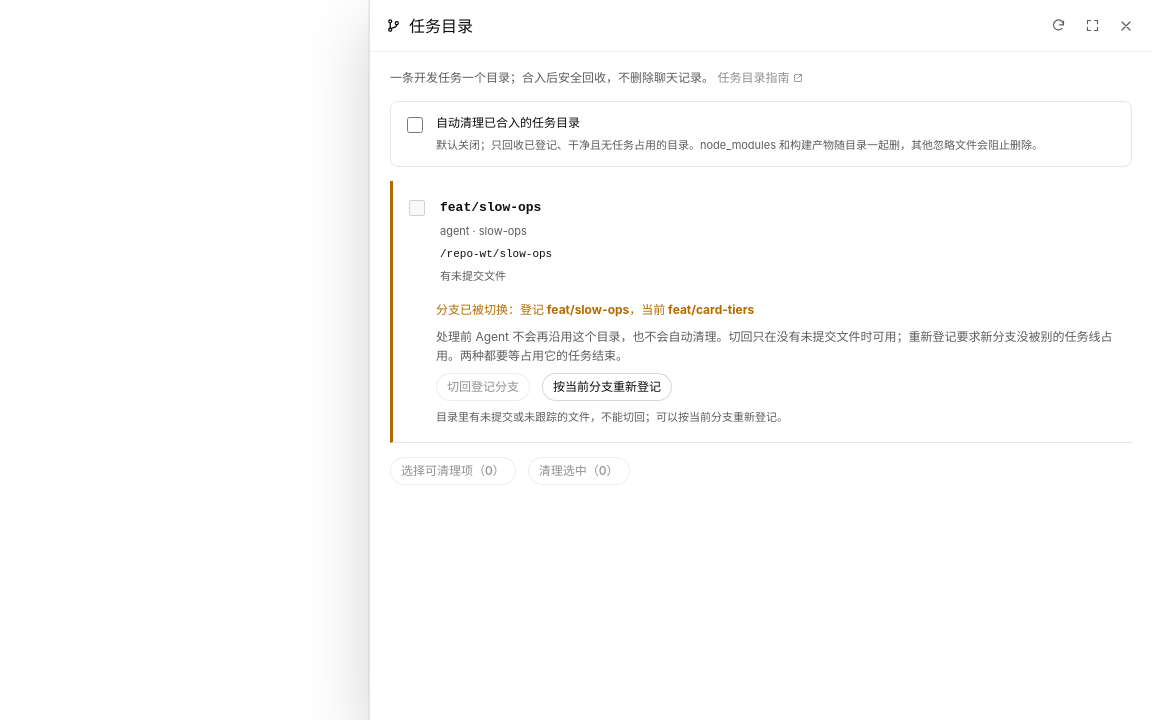
WorktreePanel › flags a checkout whose branch was switched and offers the two safe fixes
Later steps or results of the test are not shown.
Expected: the text "分支已被切换：登记 feat/slow-ops，当前 feat/card-tiers" is shown, [436,302,754,317]
Expected: the button "切回登记分支" is disabled, [436,373,530,401]
Step 1. Click the button named "刷新" → [1058, 26], box [1042,10,1074,42]
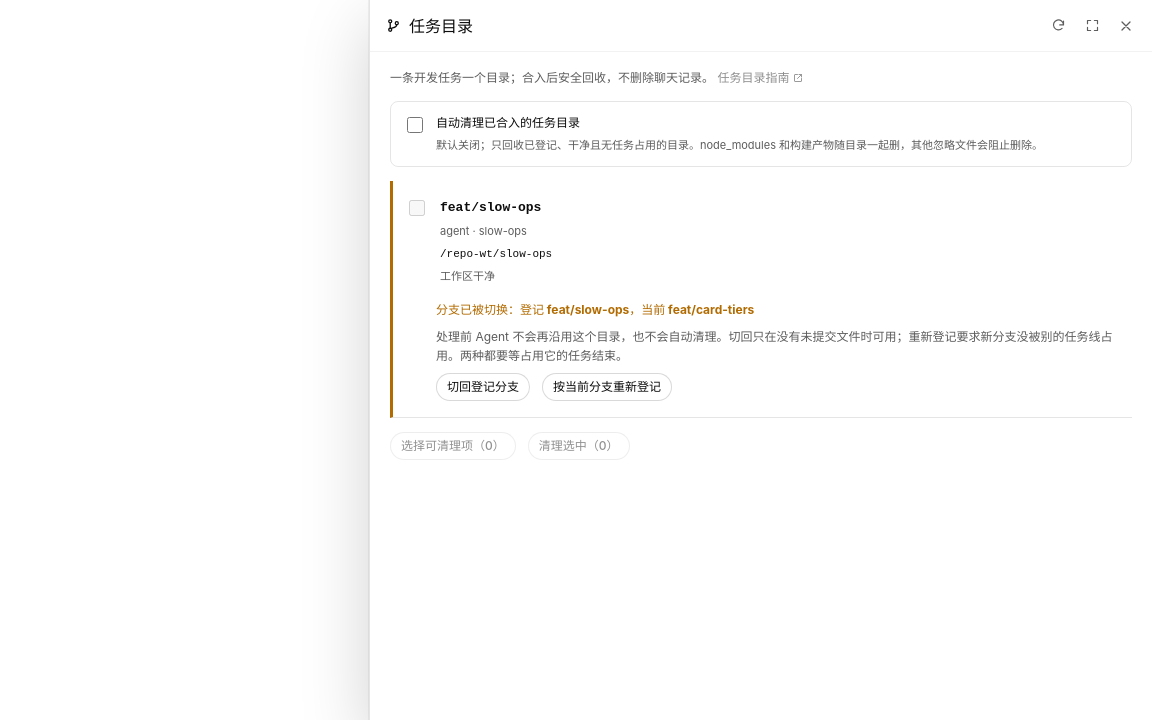
Expected: the button "切回登记分支" is enabled
Step 2. Click the button "切回登记分支" → [483, 387], box [436,373,530,401]
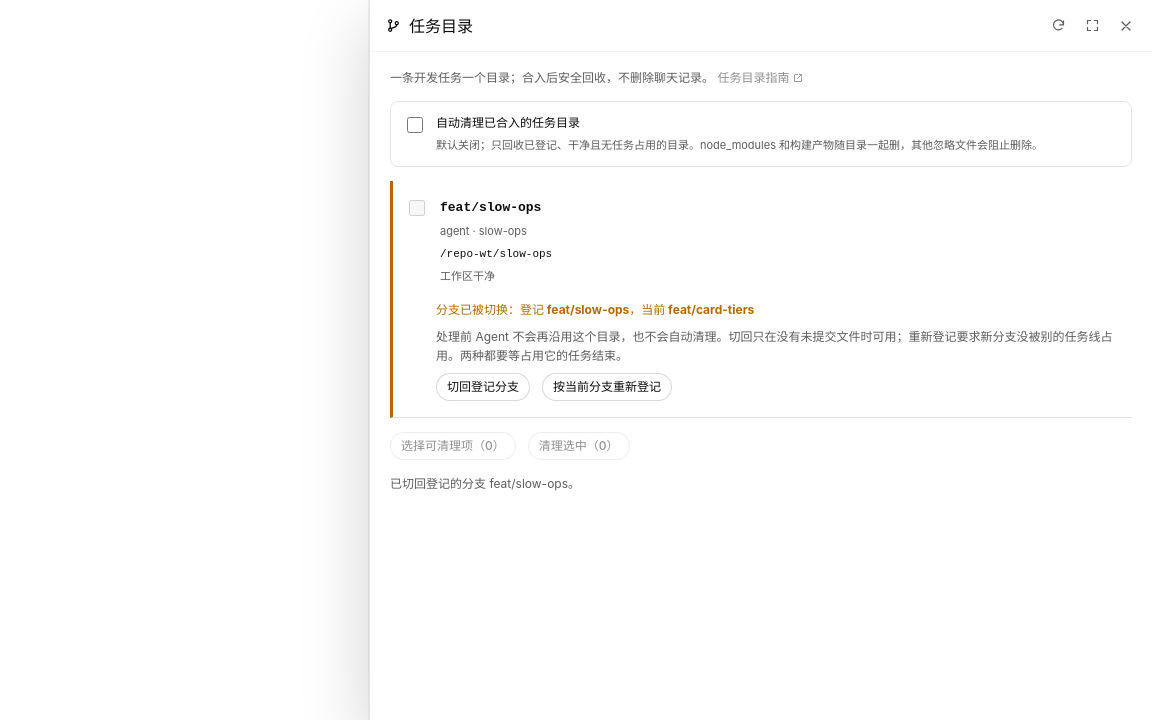
Expected: the text "已切回登记的分支 feat/slow-ops。" is shown, [390,476,580,491]
